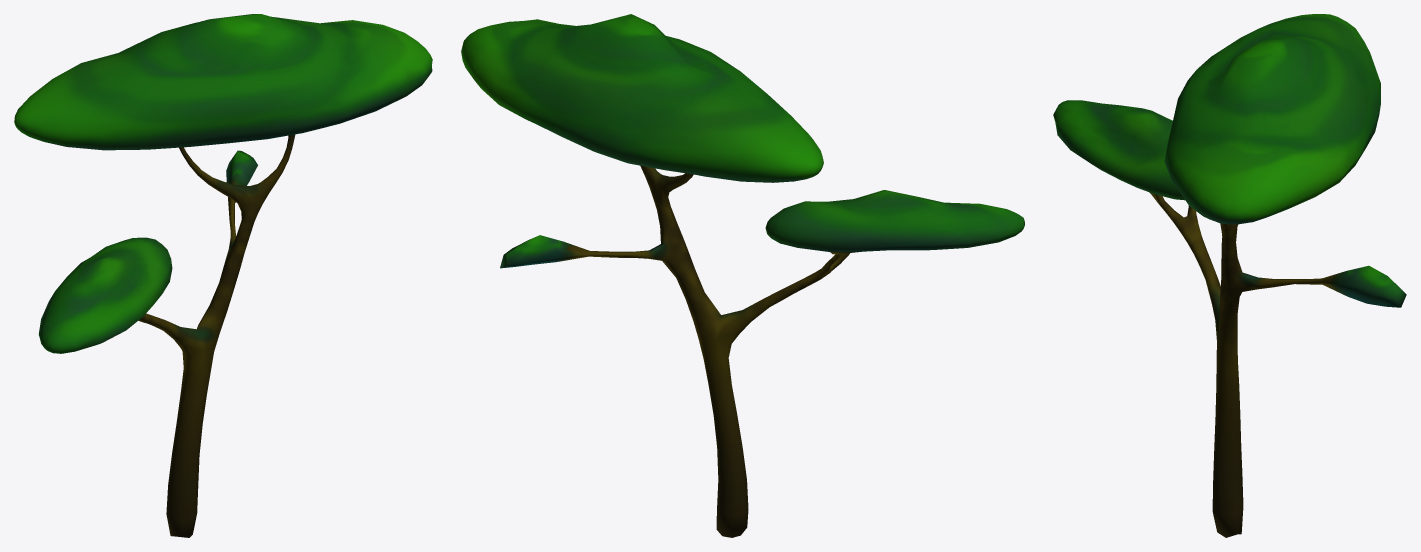
Rendered from FlatTree.fbx.
3 renders of one model, left to right at view 1: azimuth 30°, elevation 25°; view 2: azimuth 150°, elevation 25°; view 3: azimuth 270°, elevation 25°, orthographic. The views are drawn at different scales.
Parts seen in each view (by area): view 1: FlatTree; view 2: FlatTree; view 3: FlatTree.
Boxes of the visible parts, x1,y1,x2,y2 form: FlatTree: (14, 14, 432, 537); FlatTree: (461, 14, 1024, 537); FlatTree: (1053, 14, 1406, 537).
Size of the model in its own units: 648 by 651 by 398.
